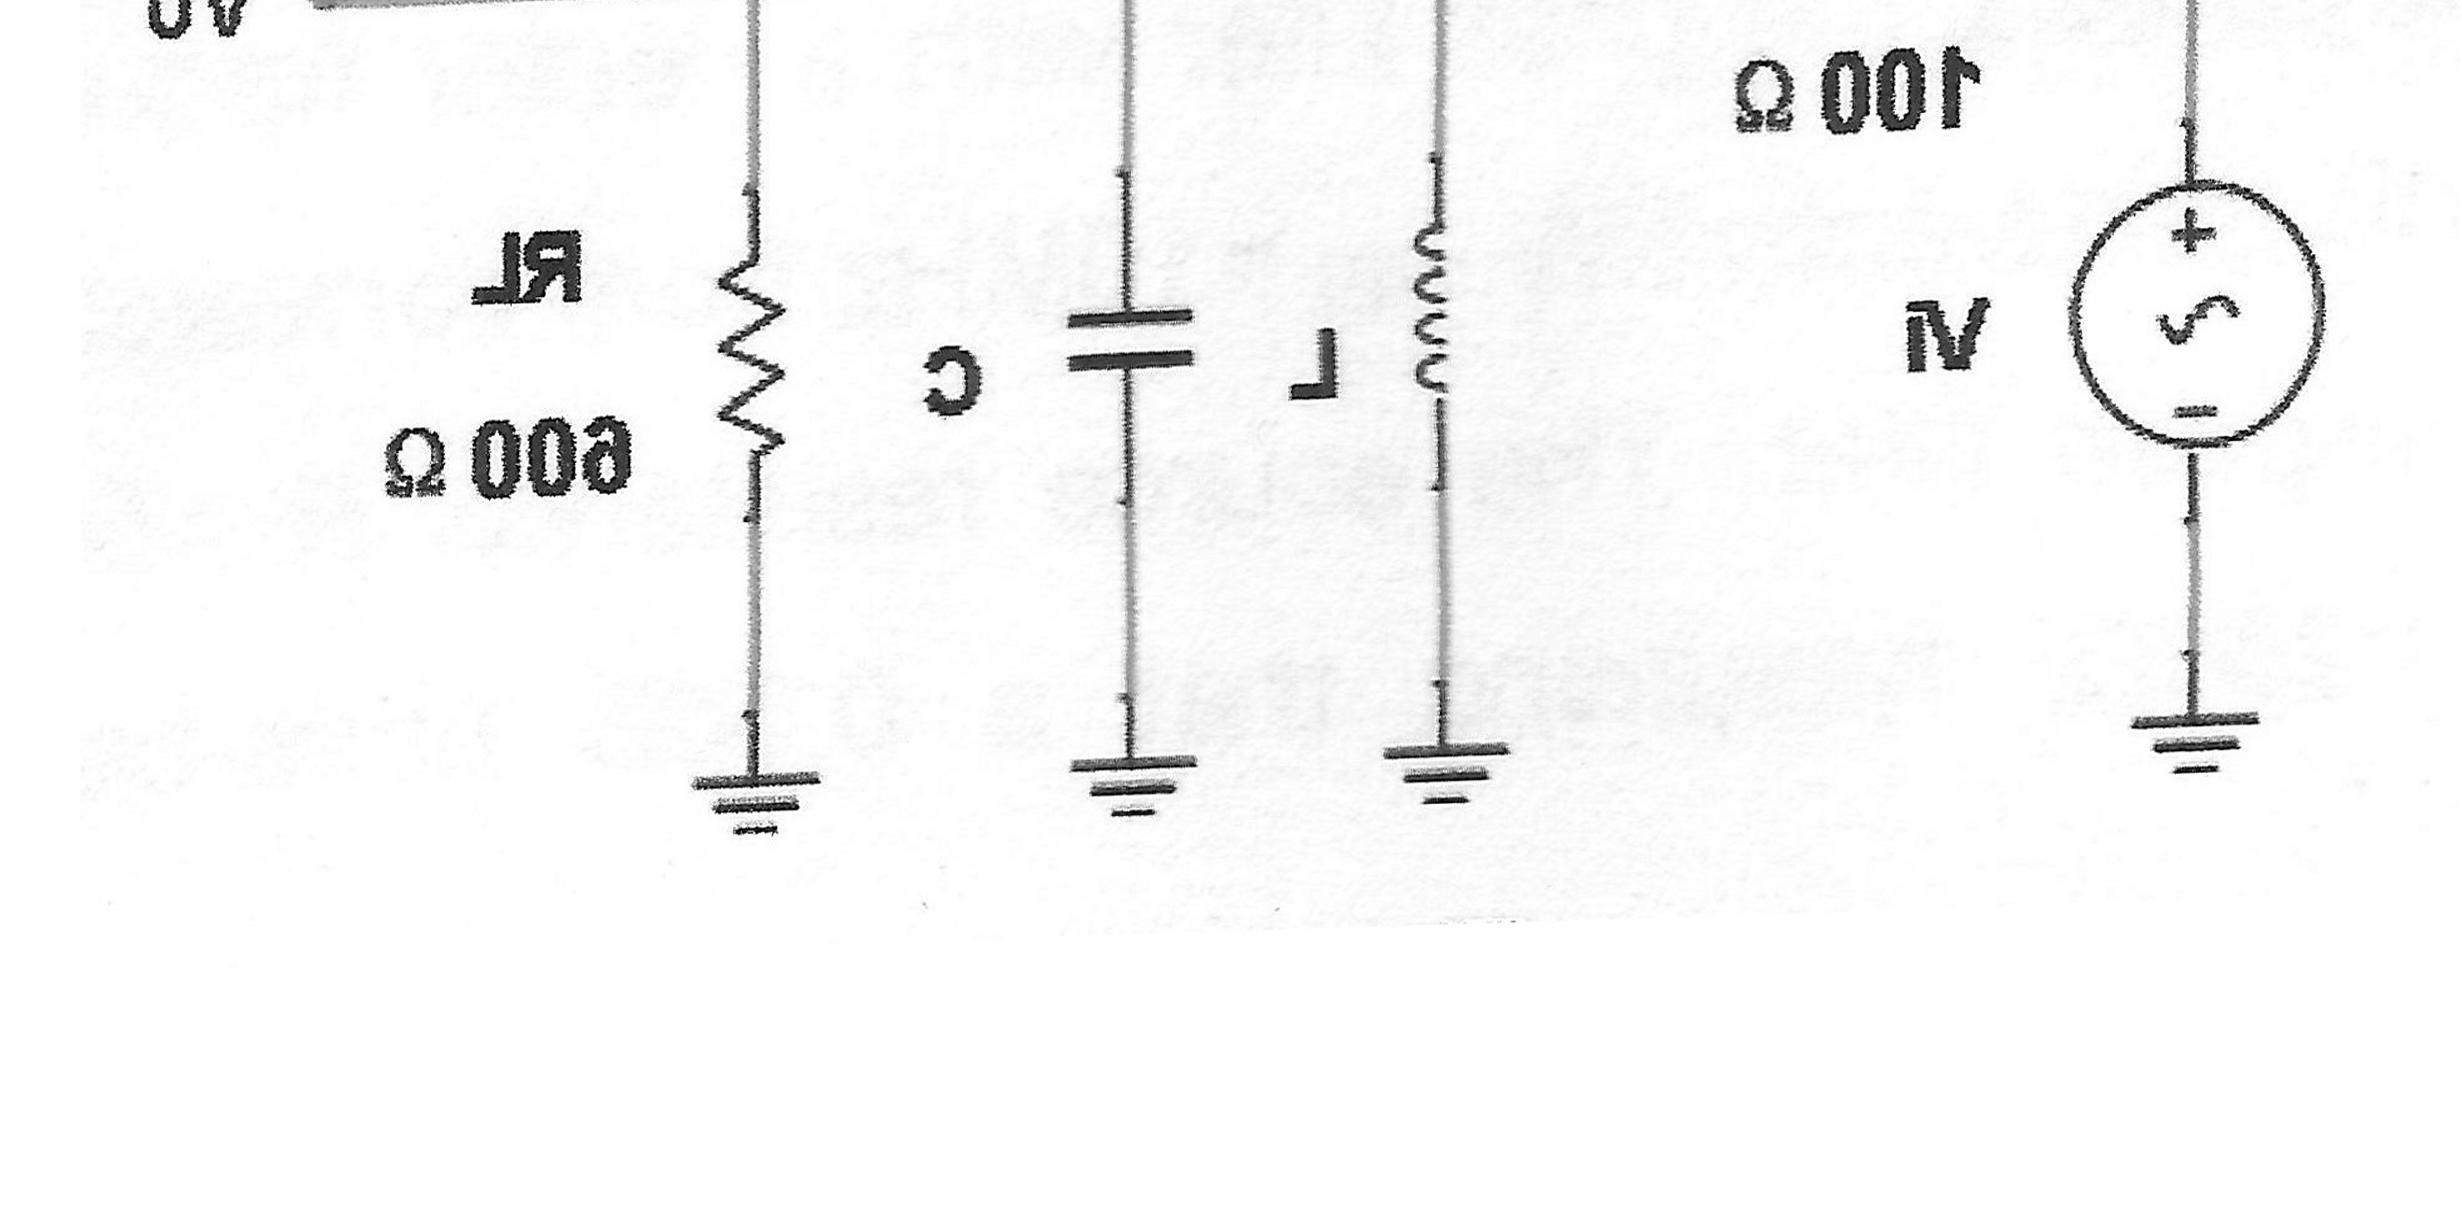Battery: (2033, 122, 2352, 490)
